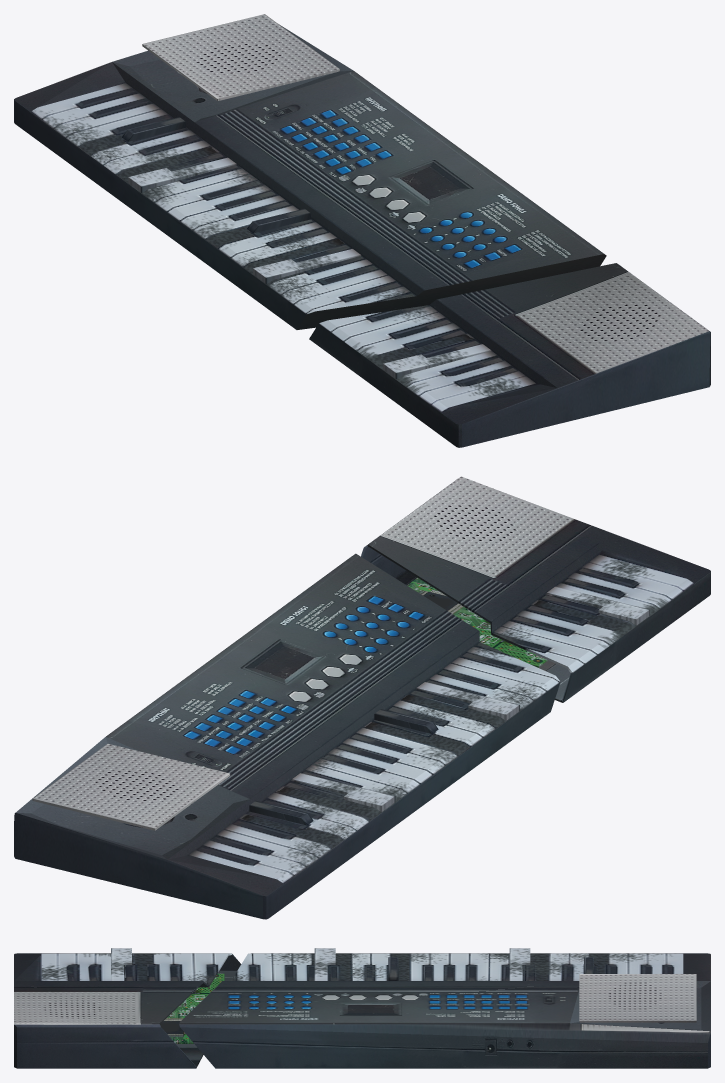
File: piano_destruct.FBX
3 views of the same model, one above another, from view 1: azimuth 30°, elevation 25°; view 2: azimuth 150°, elevation 25°; view 3: azimuth 270°, elevation 25° (orthographic). The views are drawn at different scales.
Visible parts, largest first — view 1: Box002, Object, Box003, Line001, Line002, Line003, Box006, Box005; view 2: Box002, Object, Box003, Box004, Line003, Line002, Line001, Box005, Box006; view 3: Box002, Object, Box003, Box004, Line001, Line003, Line002, Box005.
Part boxes in pixels (<box>): Box002: <box>14,24,606,329</box>; Object: <box>309,263,710,447</box>; Box003: <box>142,14,339,101</box>; Line001: <box>253,249,361,283</box>; Line002: <box>383,344,491,379</box>; Line003: <box>128,157,236,192</box>; Box006: <box>122,117,185,141</box>; Box005: <box>247,208,310,233</box>; Box002: <box>14,553,560,919</box>; Object: <box>361,476,710,702</box>; Box003: <box>32,743,230,830</box>; Box004: <box>407,577,547,667</box>; Line003: <box>292,773,395,811</box>; Line002: <box>546,586,649,625</box>; Line001: <box>416,682,519,720</box>; Box005: <box>374,709,438,733</box>; Box006: <box>249,801,313,825</box>; Box002: <box>178,953,710,1068</box>; Object: <box>14,953,241,1068</box>; Box003: <box>579,974,696,1022</box>; Box004: <box>160,973,224,1043</box>; Line001: <box>314,948,335,980</box>; Line003: <box>509,948,530,980</box>; Line002: <box>111,948,131,980</box>; Box005: <box>388,957,398,980</box>.
Bounding box in the file's own units: 14.19 × 2.99 × 43.03.
1 material, 1 textured.
